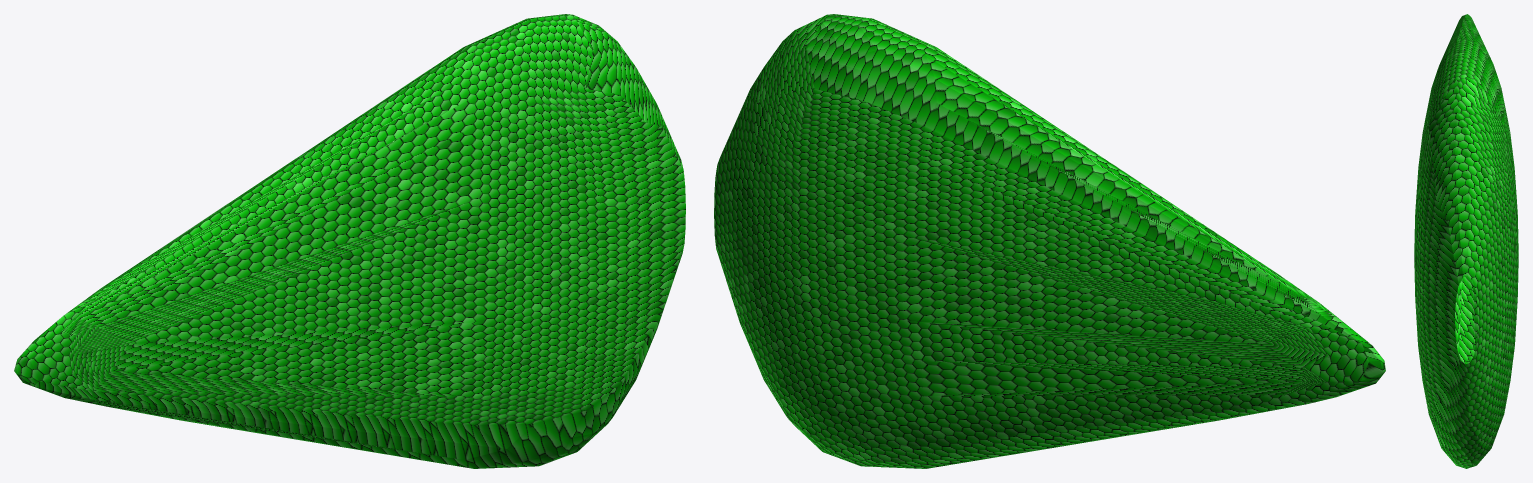
File: Fish5_2_new.dae
The picture shows the model from 3 angles, left to right: view 1: azimuth 30°, elevation 25°; view 2: azimuth 150°, elevation 25°; view 3: azimuth 270°, elevation 25°; orthographic projection. The views are drawn at different scales.
Parts seen in each view (by area): view 1: Cube_Cube_001; view 2: Cube_Cube_001; view 3: Cube_Cube_001.
Part boxes in pixels (x1,y1,x2,y2): Cube_Cube_001: (14, 14, 685, 468); Cube_Cube_001: (714, 14, 1385, 468); Cube_Cube_001: (1414, 14, 1518, 468).
Bounding box in the file's own units: 20.68 × 3.14 × 13.27.
Materials: 1 (1 with a texture image).
